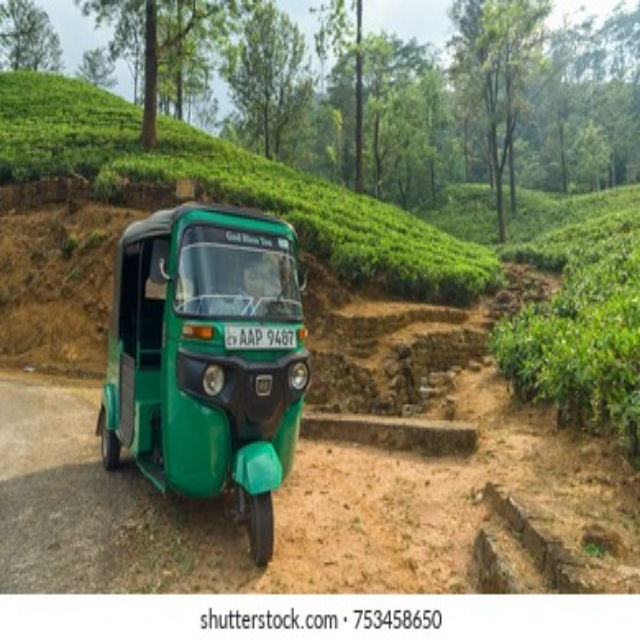Motorcycle: (95, 201, 312, 569)
